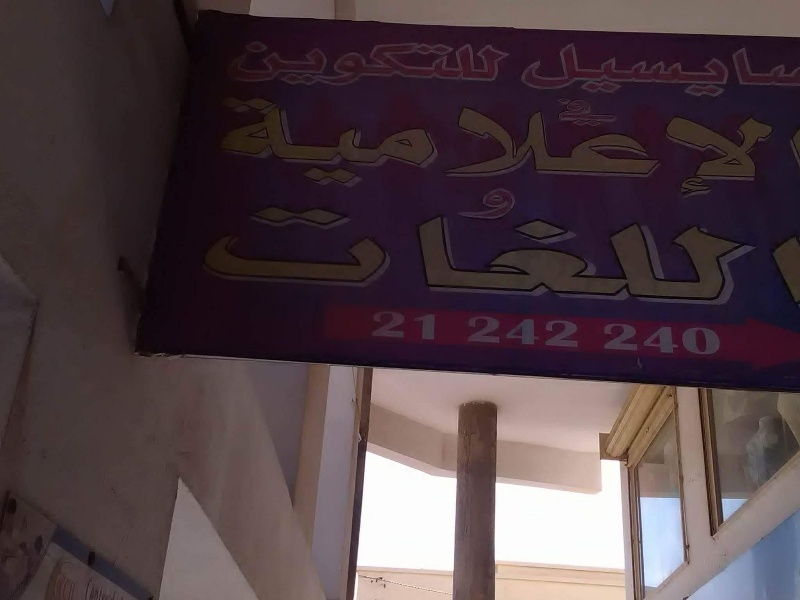text: (209, 201, 224, 309), (225, 201, 240, 309), (241, 201, 256, 309), (257, 201, 272, 309), (273, 201, 288, 309), (289, 201, 304, 309), (305, 201, 320, 309), (321, 201, 336, 309), (337, 201, 352, 309), (353, 201, 368, 309), (369, 201, 384, 309), (385, 201, 400, 309), (401, 201, 416, 309), (417, 201, 432, 309), (433, 201, 448, 309), (449, 201, 464, 309), (465, 201, 480, 309), (481, 201, 496, 309), (497, 201, 512, 309), (513, 201, 528, 309), (529, 201, 544, 309), (545, 201, 560, 309), (561, 201, 576, 309), (577, 201, 592, 309), (593, 201, 608, 309), (609, 201, 624, 309), (625, 201, 640, 309), (641, 201, 656, 309), (657, 201, 672, 309), (673, 201, 688, 309), (689, 201, 704, 309), (705, 201, 720, 309), (721, 201, 736, 309), (737, 201, 752, 309), (225, 94, 240, 201), (241, 94, 256, 201), (257, 94, 272, 201), (273, 94, 288, 201), (289, 94, 304, 201), (305, 94, 320, 201), (321, 94, 336, 201), (337, 94, 352, 201), (353, 94, 368, 201), (369, 94, 384, 201), (385, 94, 400, 201), (401, 94, 416, 201), (417, 94, 432, 201), (433, 94, 448, 201), (449, 94, 464, 201), (465, 94, 480, 201), (481, 94, 496, 201), (497, 94, 512, 201), (513, 94, 528, 201), (529, 94, 544, 201), (545, 94, 560, 201), (561, 94, 576, 201), (577, 94, 592, 201), (593, 94, 608, 201), (609, 94, 624, 201), (625, 94, 640, 201), (641, 94, 656, 201), (657, 94, 672, 201), (673, 94, 688, 201), (689, 94, 704, 201), (705, 94, 720, 201), (721, 94, 736, 201), (737, 94, 752, 201), (753, 94, 768, 201), (529, 37, 544, 101), (545, 37, 560, 101), (561, 37, 576, 101), (577, 37, 592, 101), (593, 37, 608, 101), (609, 37, 624, 101), (625, 37, 640, 101), (641, 37, 656, 101), (657, 37, 672, 101), (673, 37, 688, 101), (689, 37, 704, 101), (705, 37, 720, 101), (721, 37, 736, 101), (737, 37, 752, 101), (753, 37, 768, 101), (769, 37, 784, 101), (785, 37, 799, 101), (241, 37, 256, 88), (257, 37, 272, 88), (273, 37, 288, 88), (289, 37, 304, 88), (305, 37, 320, 88), (321, 37, 336, 88), (337, 37, 352, 88), (353, 37, 368, 88), (369, 37, 384, 88), (385, 37, 400, 88), (401, 37, 416, 88), (417, 37, 432, 88), (433, 37, 448, 88), (449, 37, 464, 88), (465, 37, 480, 88), (481, 37, 496, 88), (497, 37, 512, 88), (753, 201, 760, 309), (218, 94, 224, 201), (769, 94, 775, 201), (228, 37, 240, 88), (465, 186, 480, 224), (481, 186, 496, 224), (497, 186, 512, 224), (481, 315, 496, 352), (497, 315, 512, 352), (513, 315, 528, 352), (529, 315, 544, 352), (545, 315, 560, 352), (561, 315, 576, 352), (203, 201, 208, 309), (609, 321, 624, 357), (625, 321, 640, 357), (641, 321, 656, 357), (657, 321, 672, 357), (673, 321, 688, 357), (689, 321, 704, 357), (705, 321, 720, 357), (467, 315, 480, 352), (385, 311, 400, 343), (401, 311, 416, 343), (417, 311, 432, 343), (561, 97, 576, 128), (577, 97, 592, 128), (593, 97, 608, 128), (609, 97, 624, 128), (521, 37, 528, 101), (65, 572, 79, 600), (372, 311, 384, 343), (97, 576, 112, 600), (113, 576, 128, 600), (577, 315, 584, 352), (55, 572, 64, 600), (458, 186, 464, 224), (433, 311, 440, 343), (554, 97, 560, 128), (513, 186, 517, 224), (604, 321, 608, 357), (90, 576, 96, 600), (721, 321, 722, 357)
